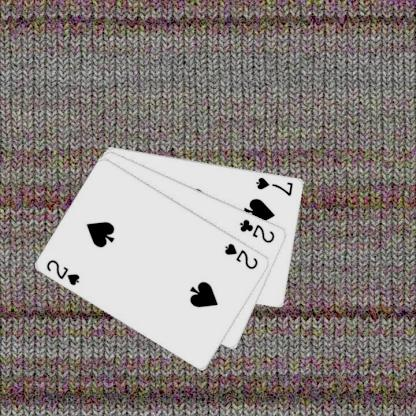2C: (237, 216, 276, 244)
2S: (222, 240, 259, 270), (44, 257, 81, 287)
7S: (254, 175, 294, 197)
